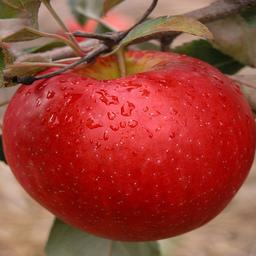apple: (4, 52, 254, 241)
